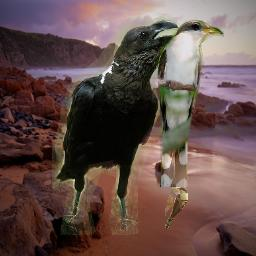Crow: (52, 15, 186, 235)
Cuckoo: (156, 19, 224, 187), (165, 187, 188, 229)
